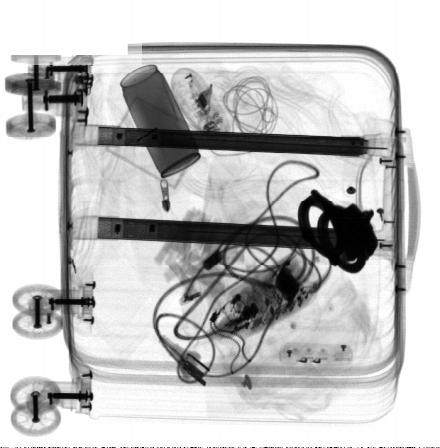HandCuffs: (298, 190, 380, 273)
